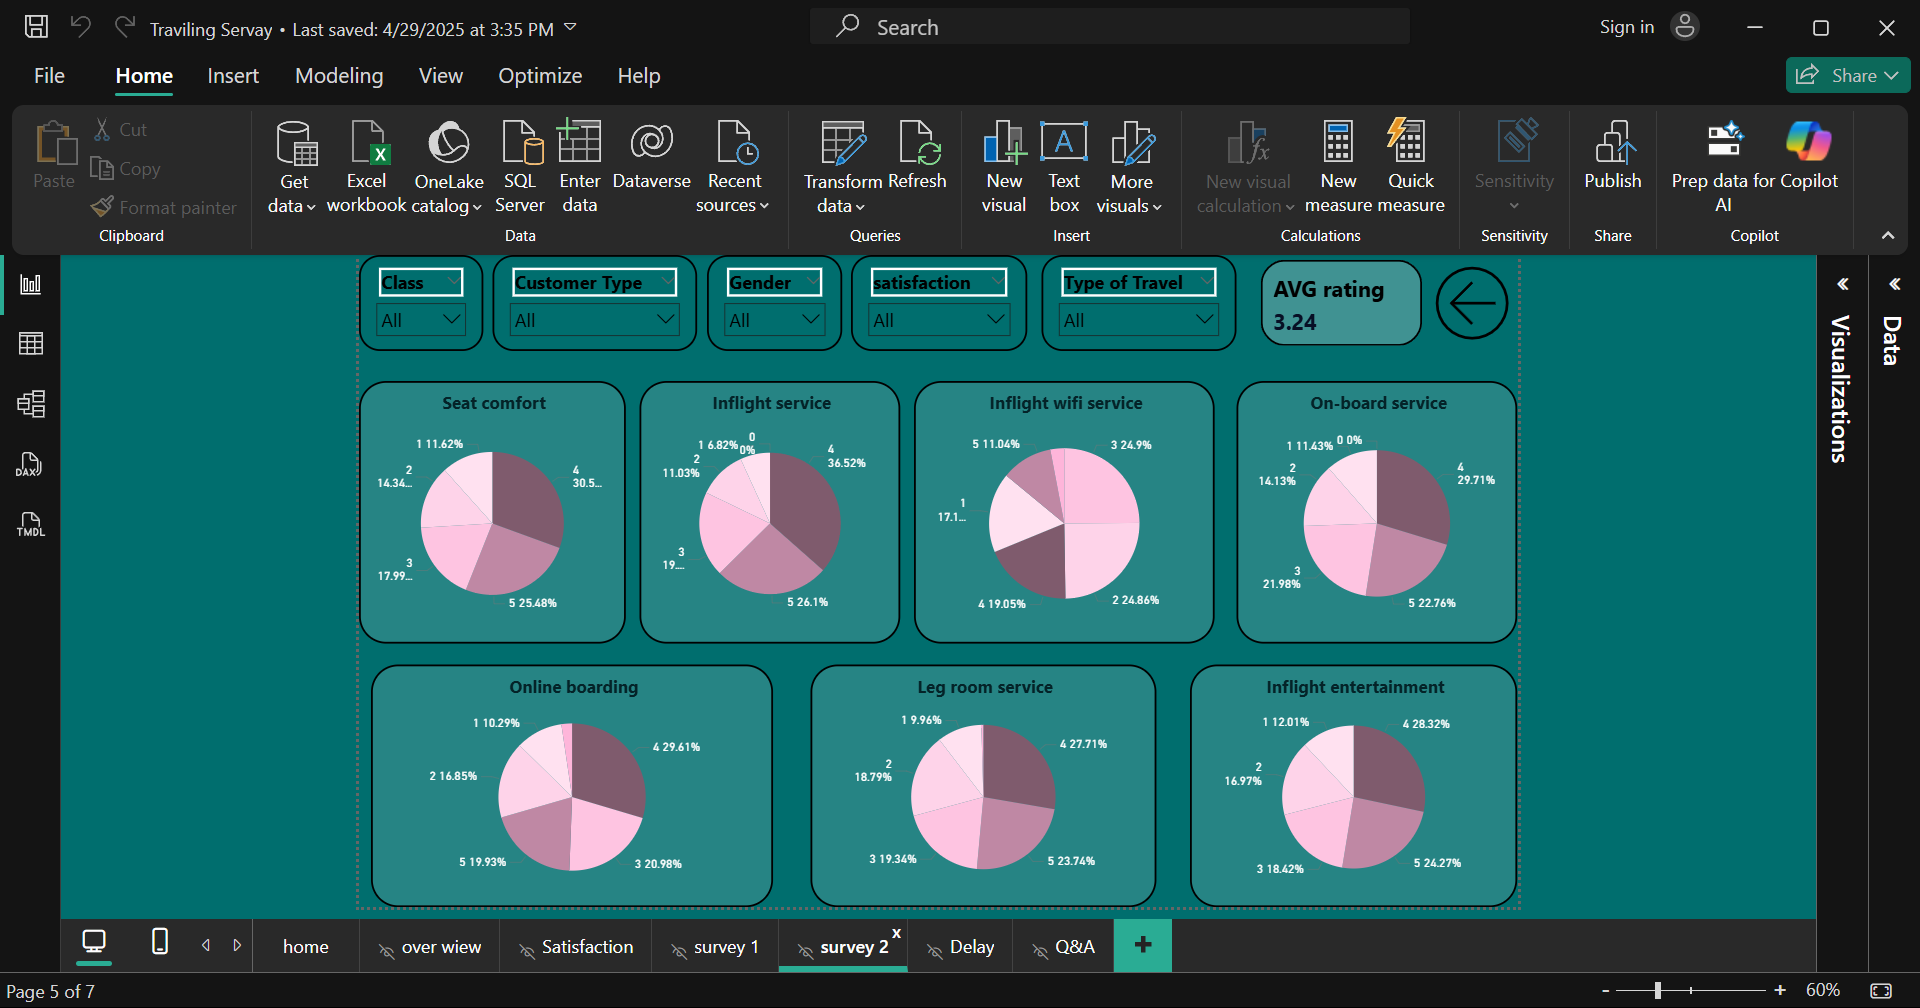

The page's visual inventory and layout, read from the dashboard file:
{"tool":"powerbi","page":{"name":"survey 2","canvas":[1280,720],"ordinal":4},"visuals":[{"type":"slicer","fields":{"Values":["train.Type of Travel"]},"box":[754.3,0,215.1,106],"z":0},{"type":"slicer","fields":{"Values":["train.Gender"]},"box":[384.9,0,149.6,106],"z":1000},{"type":"slicer","fields":{"Values":["train.Customer Type"]},"box":[148.1,0,226,106],"z":3000},{"type":"slicer","fields":{"Values":["train.Class"]},"box":[0,0,137.1,106],"z":4000},{"type":"slicer","fields":{"Values":["train.satisfaction"]},"box":[543.9,0,194.8,106],"z":5000},{"type":"cardVisual","fields":{"Data":["Avg(train.AVG rating)"]},"box":[991.2,0,188.6,106],"z":6000},{"type":"pieChart","title":"Inflight entertainment","fields":{"Category":["train.Inflight entertainment"],"Y":["CountNonNull(train.Inflight entertainment)"]},"box":[917.9,451.9,361.6,268.1],"z":7000},{"type":"pieChart","title":"Inflight service","fields":{"Category":["train.Inflight service"],"Y":["CountNonNull(train.Inflight service)"]},"box":[310.1,138.7,288.3,289.9],"z":8000},{"type":"pieChart","title":"Inflight wifi service","fields":{"Category":["train.Inflight wifi service"],"Y":["CountNonNull(train.Inflight wifi service)"]},"box":[612.5,138.7,331.9,289.9],"z":9000},{"type":"pieChart","title":"Leg room service","fields":{"Category":["train.Leg room service"],"Y":["CountNonNull(train.Leg room service)"]},"box":[498.7,451.9,381.8,268.1],"z":10000},{"type":"pieChart","title":"On-board service","fields":{"Category":["train.On-board service"],"Y":["CountNonNull(train.On-board service)"]},"box":[969.4,138.7,310.1,289.9],"z":11000},{"type":"pieChart","title":"Online boarding","fields":{"Category":["train.Online boarding"],"Y":["CountNonNull(train.Online boarding)"]},"box":[14,451.9,444.2,268.1],"z":12000},{"type":"pieChart","title":"Seat comfort","fields":{"Category":["train.Seat comfort"],"Y":["CountNonNull(train.Seat comfort)"]},"box":[0,138.7,294.5,289.9],"z":13000},{"type":"actionButton","box":[1179.7,0,99.7,106],"z":14000}]}

Visuals, with their boxes on the page's 1280x720 design canvas (x1, y1, x2, y2). These are canvas units, not pixel positions in the 1920x1008 screenshot, which may show the page scaled, cropped or inside an application window:
slicer - train.Type of Travel: rect(754, 0, 969, 106)
slicer - train.Gender: rect(385, 0, 534, 106)
slicer - train.Customer Type: rect(148, 0, 374, 106)
slicer - train.Class: rect(0, 0, 137, 106)
slicer - train.satisfaction: rect(544, 0, 739, 106)
cardVisual - Avg(train.AVG rating): rect(991, 0, 1180, 106)
"Inflight entertainment" pieChart: rect(918, 452, 1280, 720)
"Inflight service" pieChart: rect(310, 139, 598, 429)
"Inflight wifi service" pieChart: rect(612, 139, 944, 429)
"Leg room service" pieChart: rect(499, 452, 880, 720)
"On-board service" pieChart: rect(969, 139, 1280, 429)
"Online boarding" pieChart: rect(14, 452, 458, 720)
"Seat comfort" pieChart: rect(0, 139, 294, 429)
actionButton: rect(1180, 0, 1279, 106)
